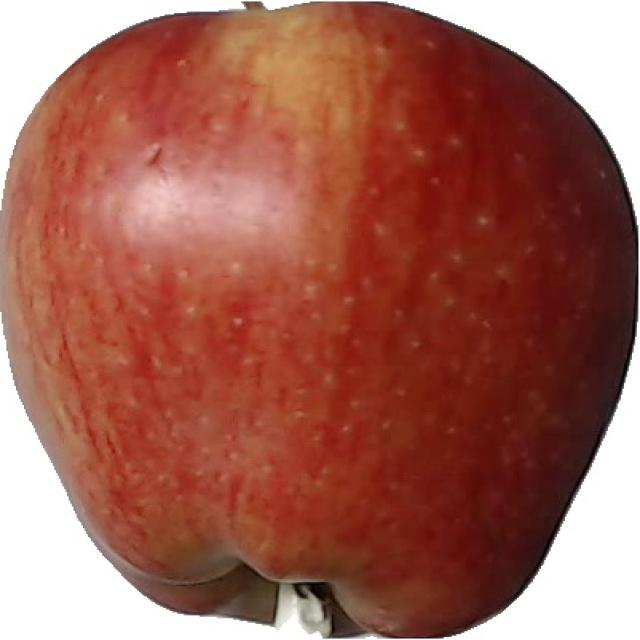apple: (3, 2, 636, 636)
